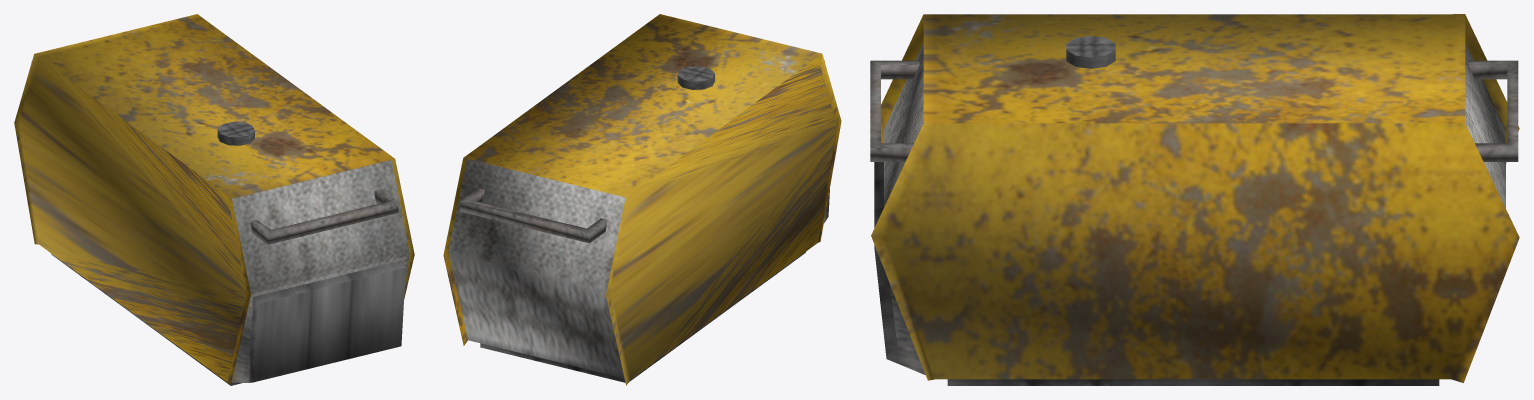
The model's file is generator_1_lvl.fbx.
3 renders of one model, left to right at view 1: azimuth 30°, elevation 25°; view 2: azimuth 150°, elevation 25°; view 3: azimuth 270°, elevation 25°, orthographic. The views are drawn at different scales.
Visible parts, largest first — view 1: generator_1_lvl; view 2: generator_1_lvl; view 3: generator_1_lvl.
Part boxes in pixels (x1=…): generator_1_lvl: x1=14, y1=14, x2=414, y2=385; generator_1_lvl: x1=443, y1=14, x2=841, y2=385; generator_1_lvl: x1=870, y1=14, x2=1519, y2=385.
Size of the model in its own units: 100 by 119 by 251.
